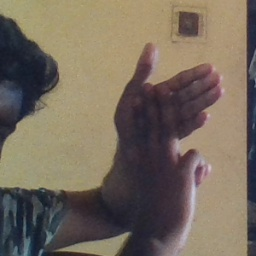M: (110, 39, 227, 207)
